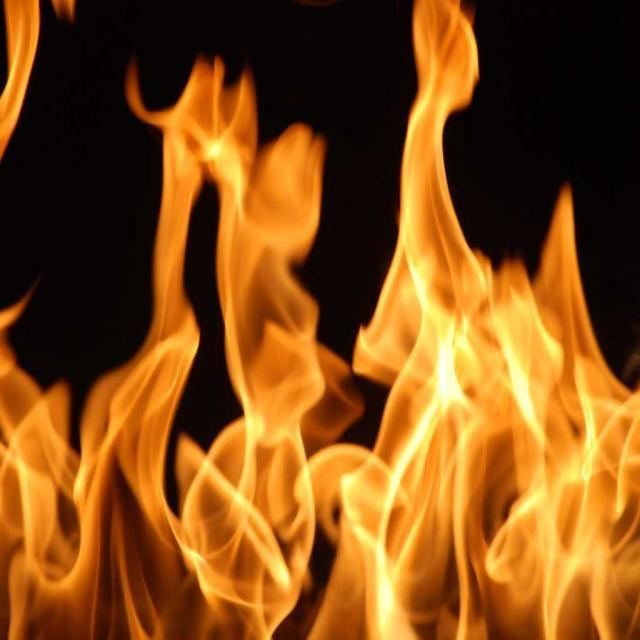Fire: (392, 276, 616, 636), (224, 146, 312, 640), (5, 395, 178, 640)
